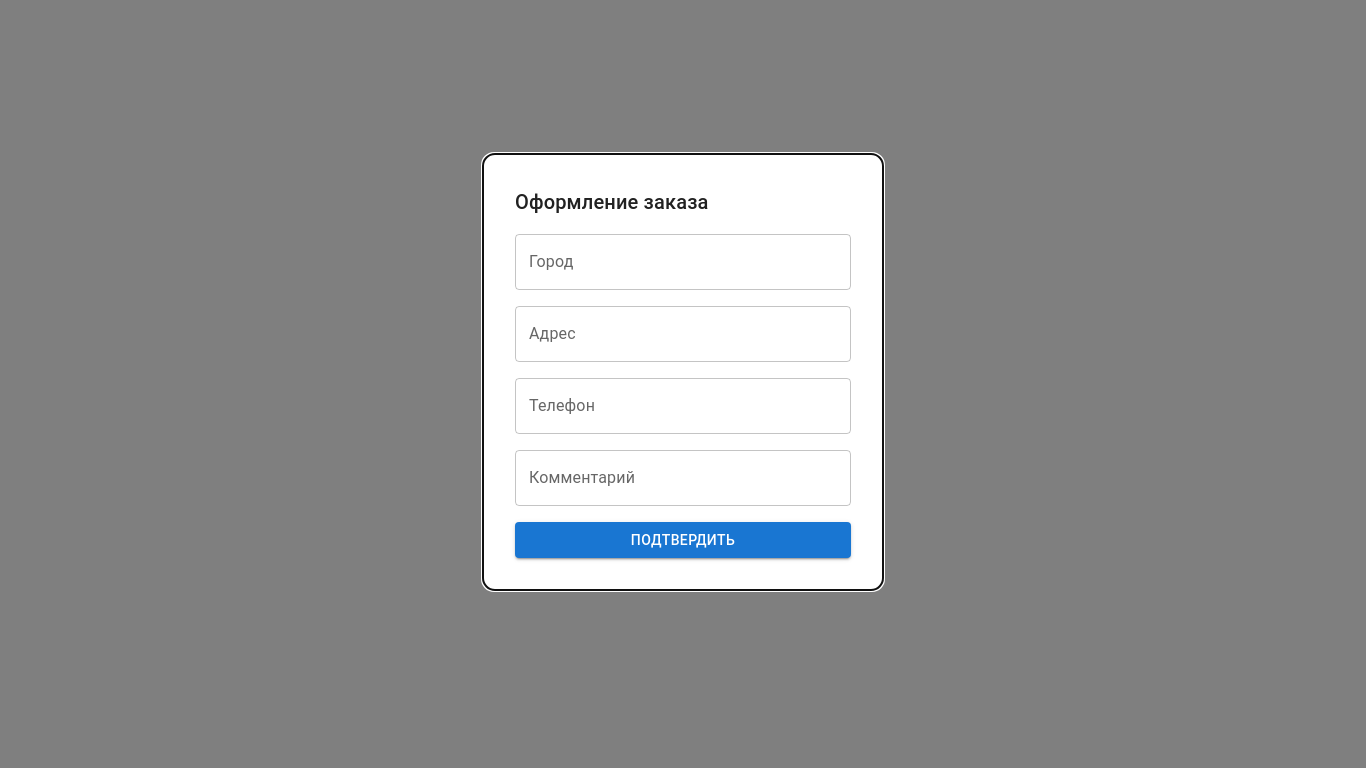
it: CreateOrderModal › валидация формы
What coordinates should you click on to do the following:
click the button "Подтвердить"
I would click on:
 (683, 540)
Its box is left=515, top=522, right=851, bottom=558.
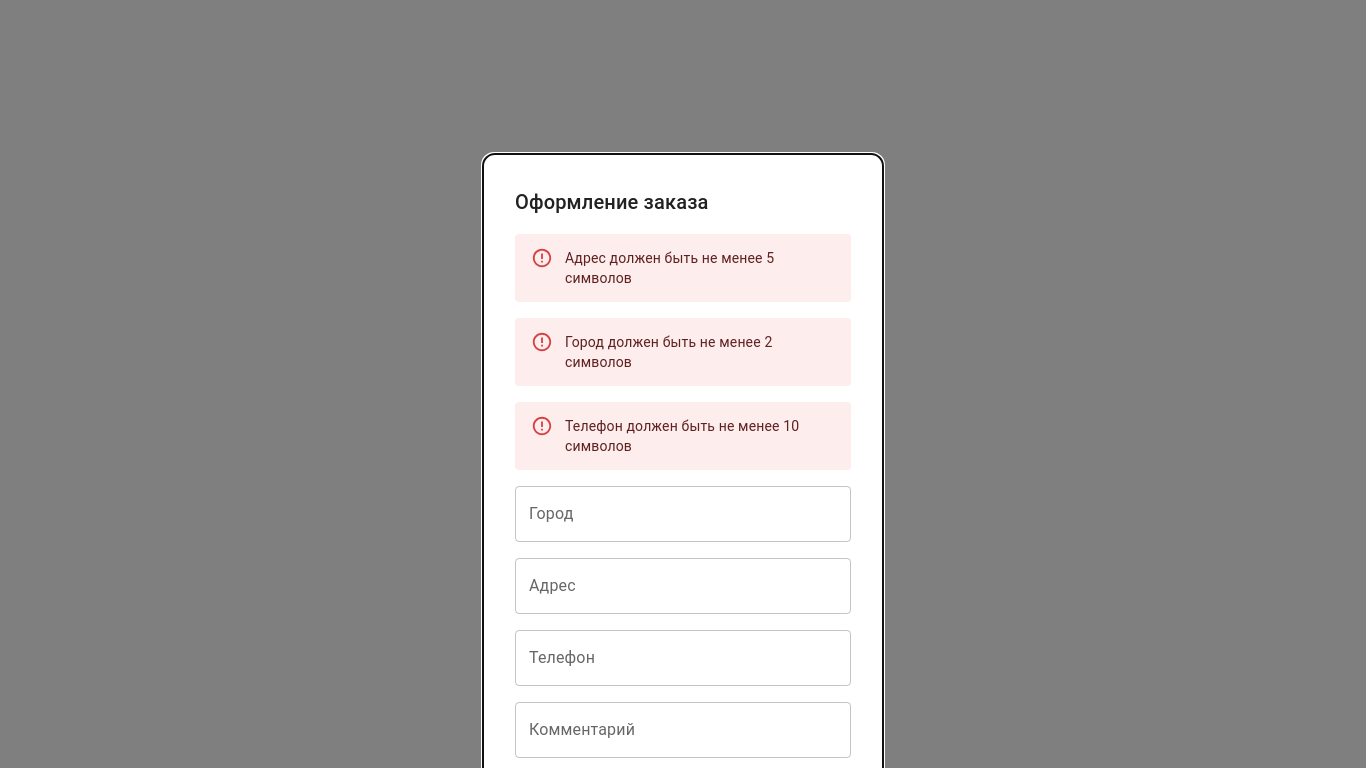
Expected: the text "Адрес должен быть не менее 5 символов" is shown, left=565, top=250, right=774, bottom=286
